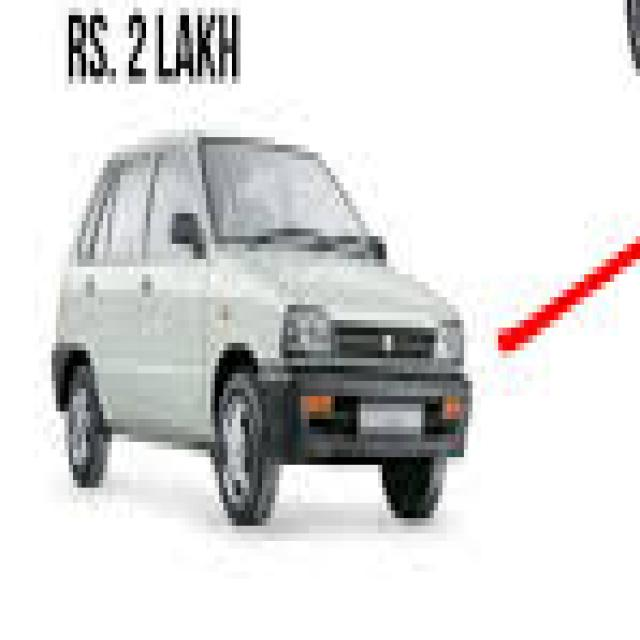car: (52, 107, 516, 526), (580, 0, 640, 99)
